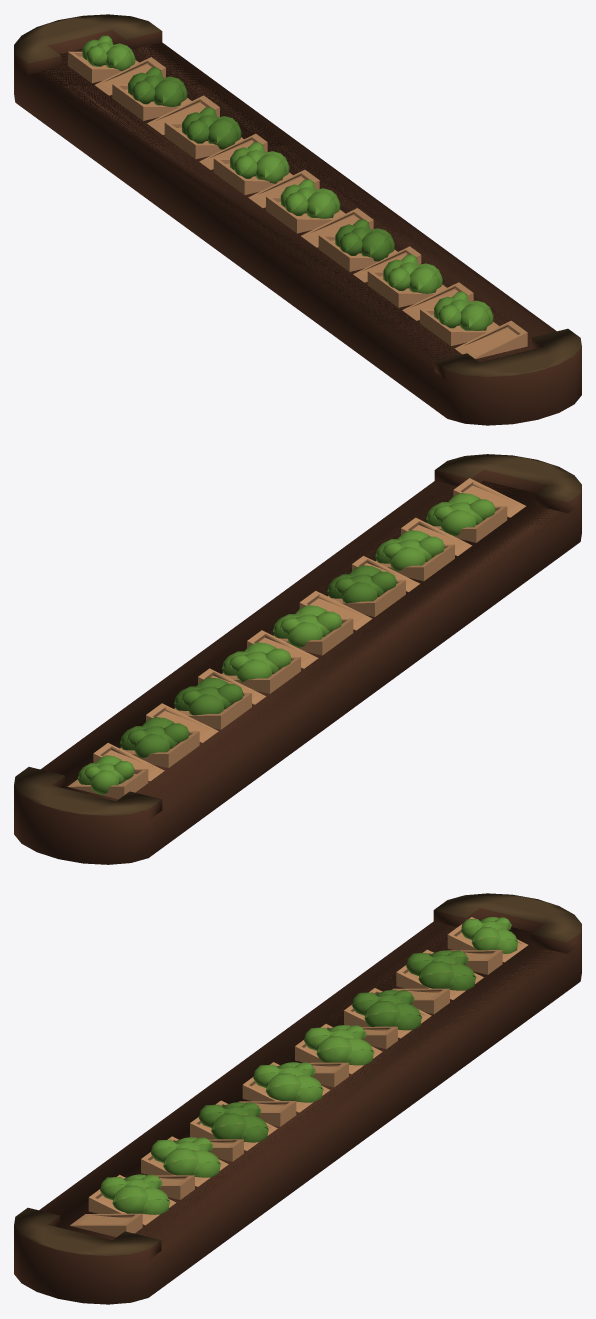
Rendered from sillas_centro_2.glb.
3 renders of one model, top to bottom at view 1: azimuth 30°, elevation 25°; view 2: azimuth 150°, elevation 25°; view 3: azimuth 330°, elevation 25°, orthographic.
Visible parts, largest first — view 1: Círculo.003, Cubo.002, Cubo.003, Cubo.004, Esfera.026, Esfera.023, Esfera.025, Esfera.022, Esfera.028, Esfera.024, Esfera.027, Esfera.029; view 2: Círculo.003, Cubo.002, Cubo.003, Cubo.004, Esfera.025, Esfera.024, Esfera.027, Esfera.028, Esfera.022, Esfera.026, Esfera.023, Esfera.029; view 3: Círculo.003, Cubo.002, Cubo.003, Cubo.004, Esfera.025, Esfera.024, Esfera.027, Esfera.022, Esfera.026, Esfera.028, Esfera.023, Esfera.029.
Part boxes in pixels (x1,y1,x2,y2): Círculo.003: (14,14,581,425); Cubo.002: (318,235,527,358); Cubo.003: (164,122,373,247); Cubo.004: (68,51,219,134); Esfera.026: (335,219,394,261); Esfera.023: (182,107,241,149); Esfera.025: (434,291,493,330); Esfera.022: (230,142,289,183); Esfera.028: (128,67,187,106); Esfera.024: (280,179,340,218); Esfera.027: (383,254,442,293); Esfera.029: (82,35,135,71); Círculo.003: (14,454,581,864); Cubo.002: (328,478,525,617); Cubo.003: (174,591,372,729); Cubo.004: (67,703,218,799); Esfera.025: (426,493,495,536); Esfera.024: (272,605,342,647); Esfera.027: (375,530,444,571); Esfera.028: (120,717,189,758); Esfera.022: (221,642,291,682); Esfera.026: (327,565,397,603); Esfera.023: (174,677,243,715); Esfera.029: (77,755,134,795); Círculo.003: (14,893,581,1304); Cubo.002: (70,1100,277,1237); Cubo.003: (239,988,431,1126); Cubo.004: (392,917,527,1014); Esfera.025: (100,1174,170,1214); Esfera.024: (253,1062,323,1102); Esfera.027: (151,1137,220,1177); Esfera.022: (304,1025,374,1065); Esfera.026: (198,1102,268,1142); Esfera.028: (406,950,476,990); Esfera.023: (352,990,422,1030); Esfera.029: (461,917,518,953).
Bounding box in the file's own units: 4.03 × 1.86 × 25.1.
